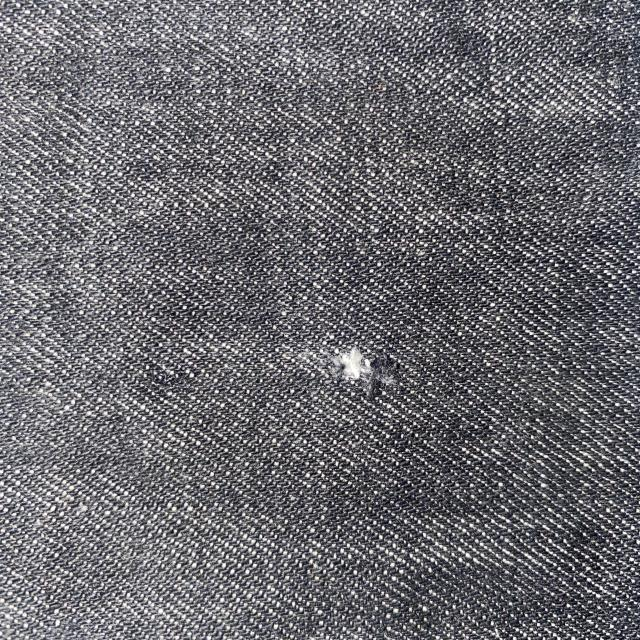Knot: (331, 341, 404, 394)
